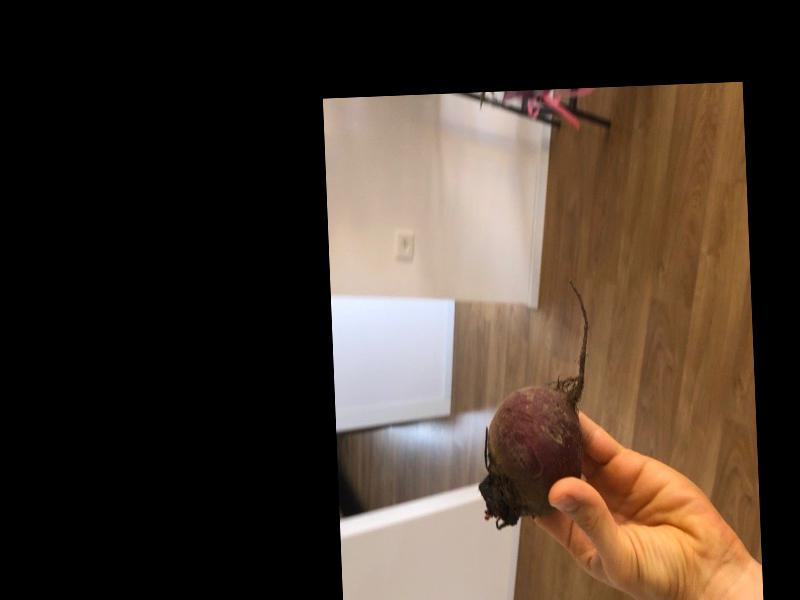Beet: (471, 278, 595, 527)
